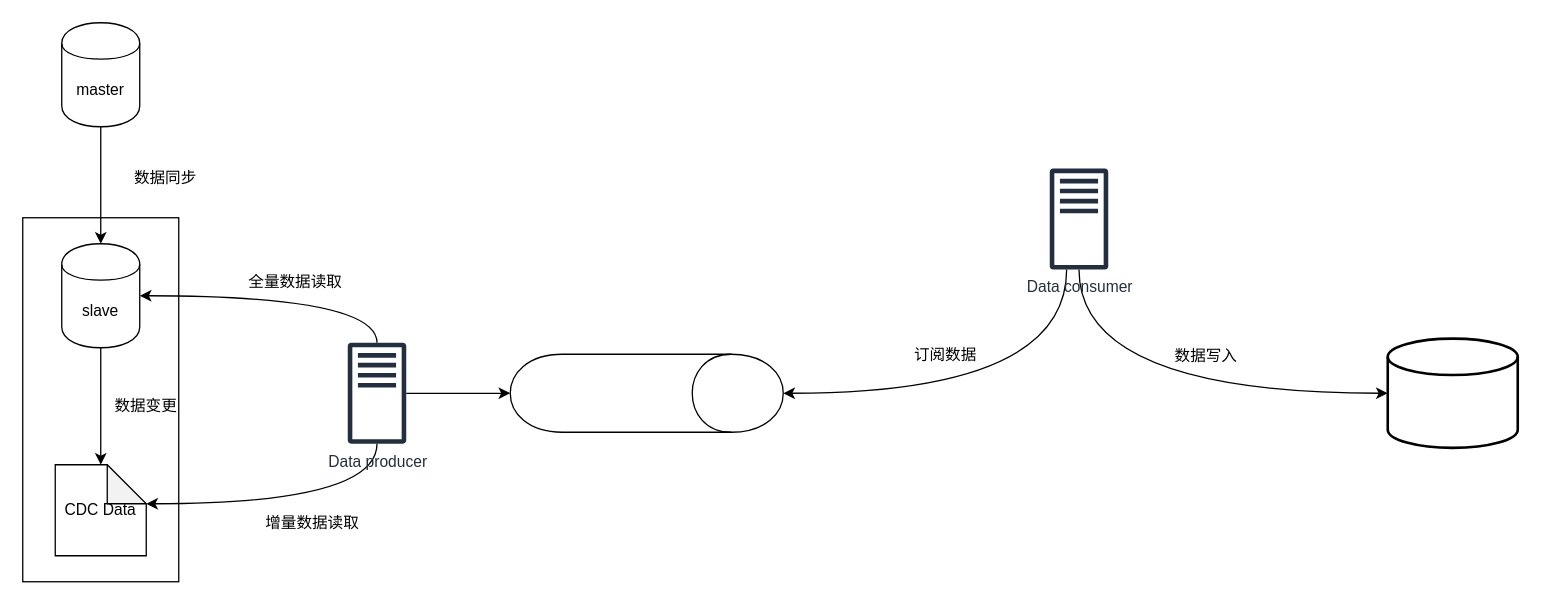
Image size: 1542x605. Some labels were removed from this diagram. The centre of each missing label's shape, as x and y in pixels:
"ElasticSearch" belongs at (x=1452, y=392).
"kafka" belongs at (x=646, y=392).
